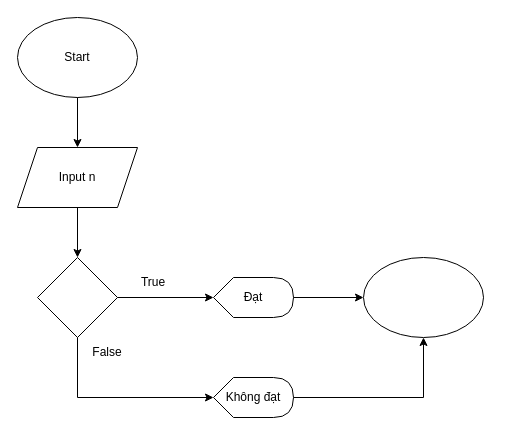
This 509x435 diagram has some shape labels left out. Here are the shapes that lost their labels. From the top down, the centre of each, then its label:
At pixel 77 297: "n>=5".
At pixel 423 297: "End".
